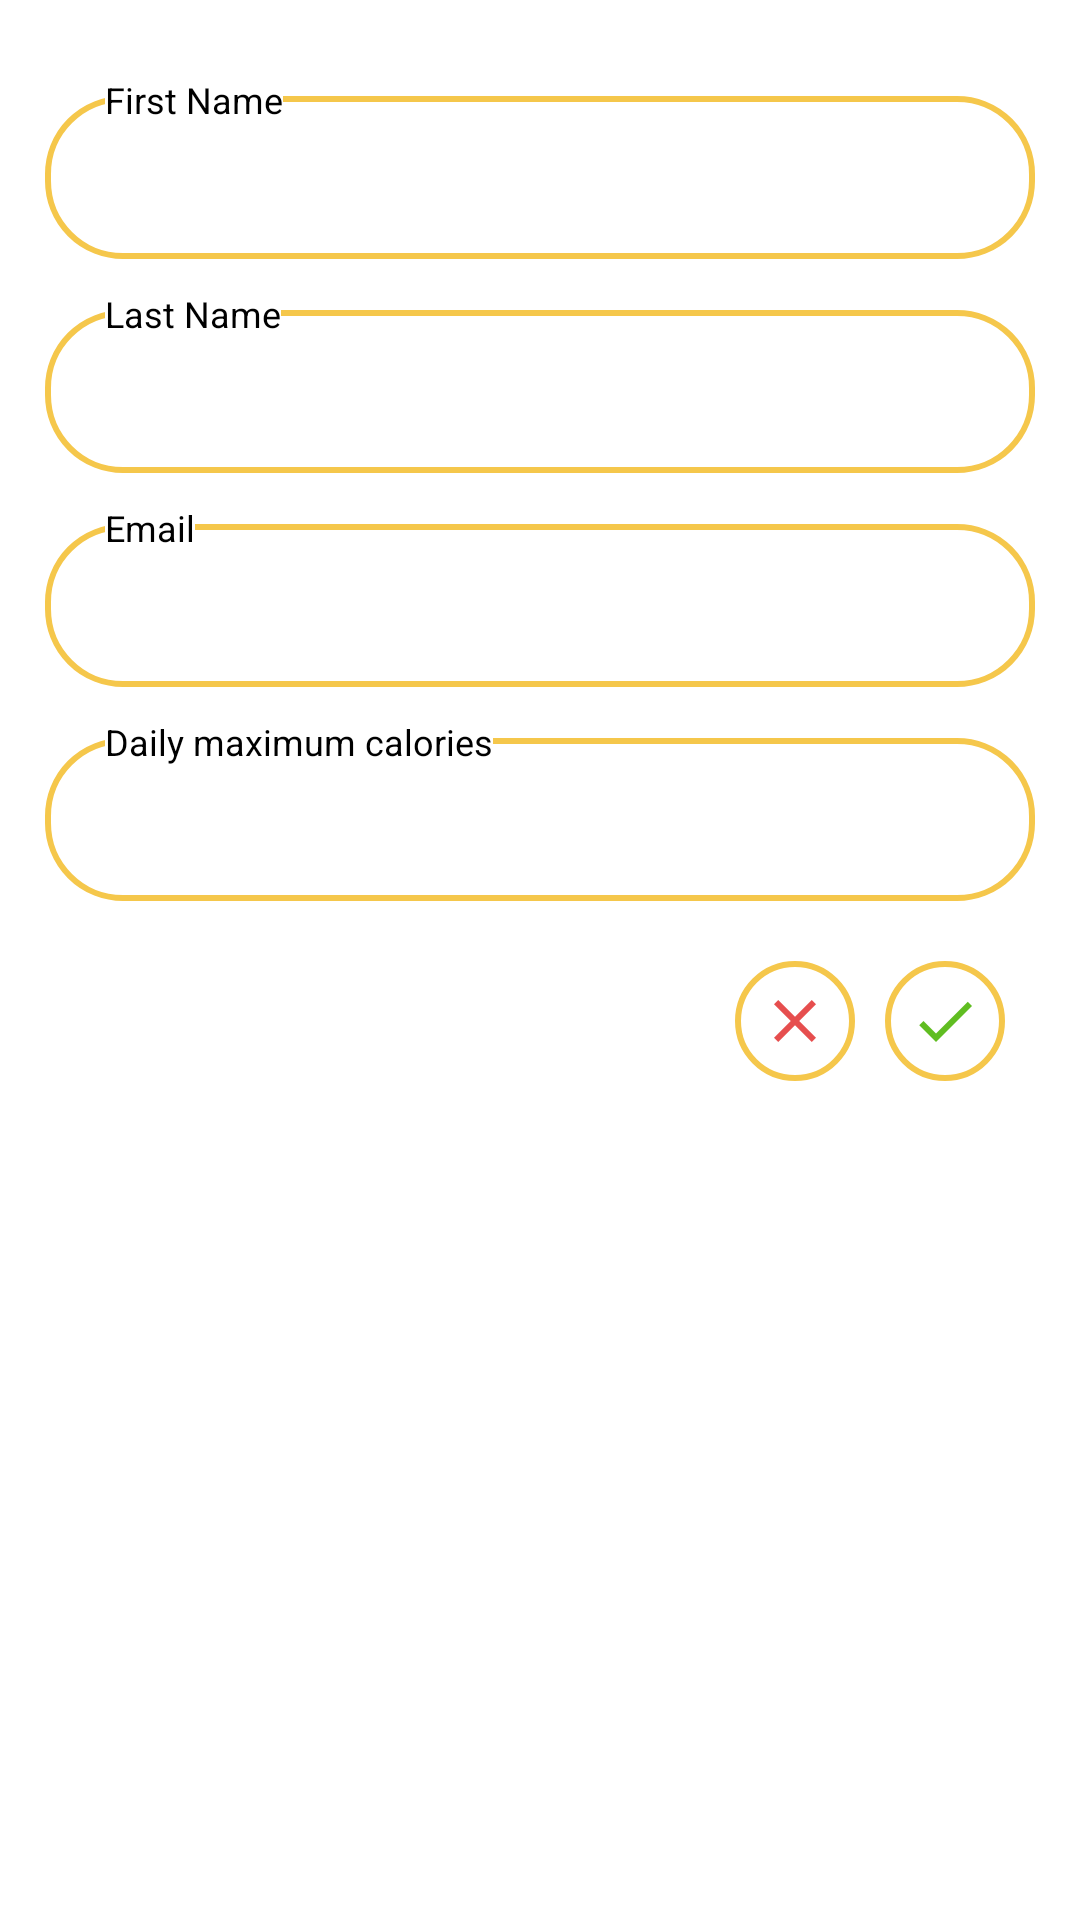

Screen size 1080px x 1920px. Icon name, then its box in pixels as (x1, y1, x2, y2):
Cancel: (735, 961, 855, 1081)
Confirm: (885, 961, 1005, 1081)
